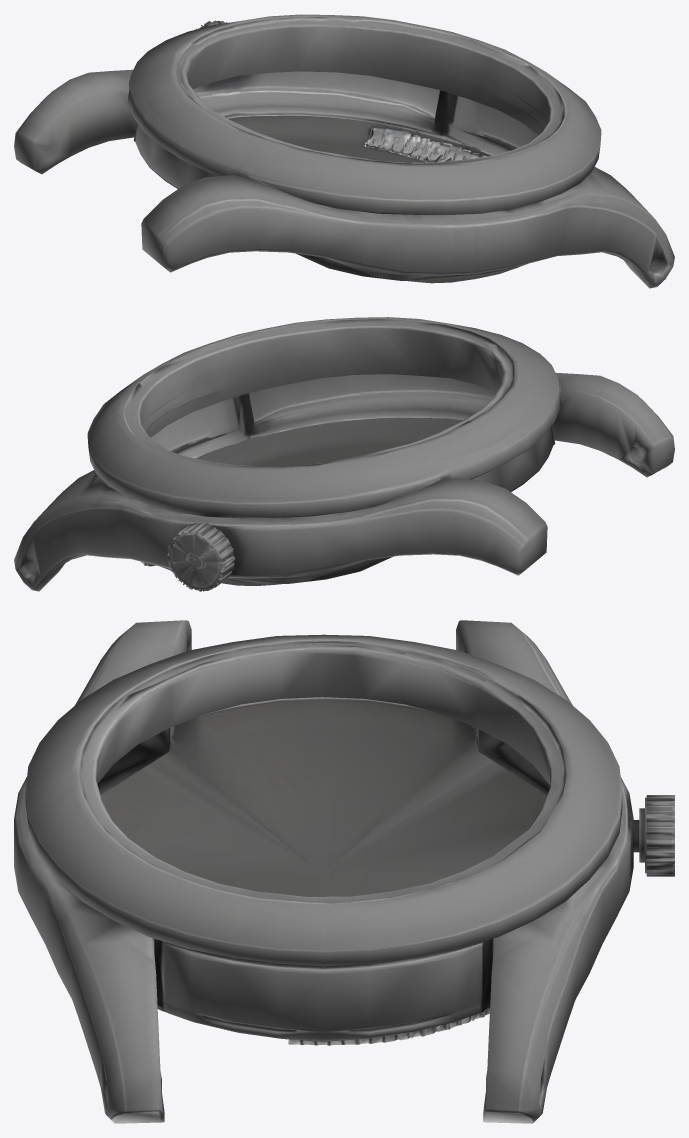
Rendered from case-gen.glb.
The picture shows the model from 3 angles, top to bottom: view 1: azimuth 30°, elevation 25°; view 2: azimuth 150°, elevation 25°; view 3: azimuth 270°, elevation 25°; orthographic projection. The views are drawn at different scales.
Visible parts, largest first — view 1: tripo_node_5af2d114-3719-4d4e-bcf6-b3706d374d68; view 2: tripo_node_5af2d114-3719-4d4e-bcf6-b3706d374d68; view 3: tripo_node_5af2d114-3719-4d4e-bcf6-b3706d374d68.
Part boxes in pixels (x1=…): tripo_node_5af2d114-3719-4d4e-bcf6-b3706d374d68: x1=14, y1=14, x2=674, y2=288; tripo_node_5af2d114-3719-4d4e-bcf6-b3706d374d68: x1=14, y1=317, x2=674, y2=591; tripo_node_5af2d114-3719-4d4e-bcf6-b3706d374d68: x1=14, y1=620, x2=674, y2=1123.
Bounding box in the file's own units: 0.1017 × 0.04 × 0.0925.
1 material, 1 textured.
